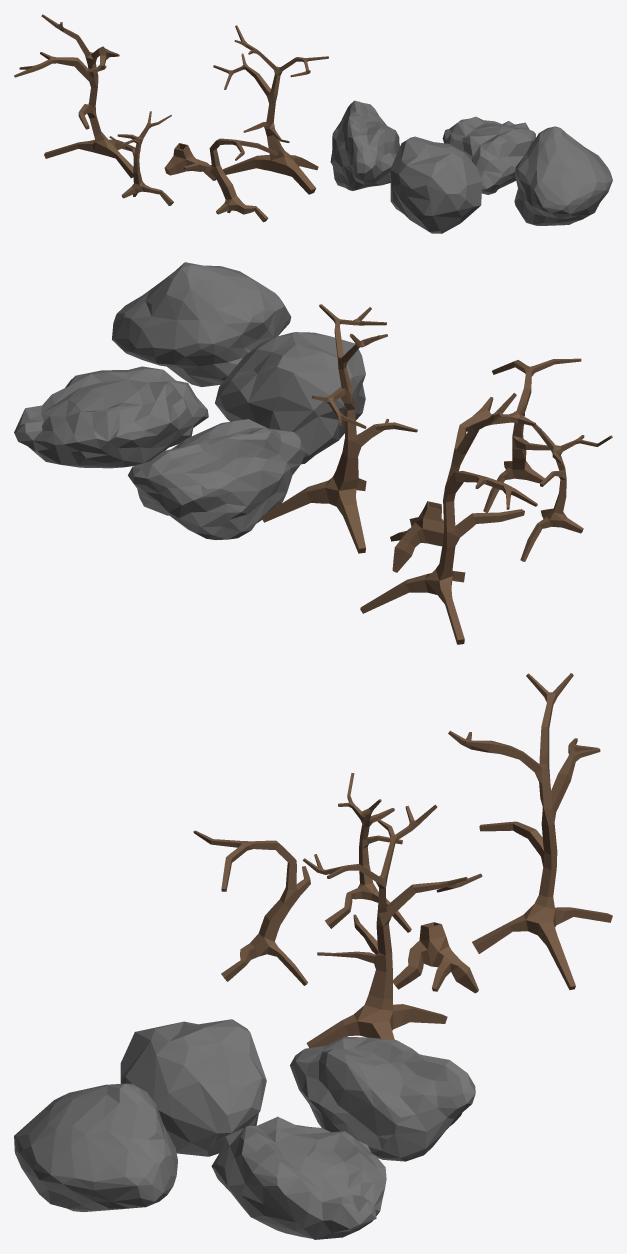
The model's file is trees_and_stones.fbx.
3 views of the same model, one above another, from view 1: azimuth 30°, elevation 25°; view 2: azimuth 150°, elevation 25°; view 3: azimuth 270°, elevation 25° (orthographic). The views are drawn at different scales.
Parts seen in each view (by area): view 1: Icosphere.001, Icosphere, Icosphere.003, Icosphere.002, tree1, tree5, tree2, tree4, tree3; view 2: Icosphere.001, Icosphere.002, Icosphere.003, Icosphere, tree5, tree1, tree2, tree4, tree3; view 3: Icosphere.001, Icosphere.003, Icosphere.002, Icosphere, tree5, tree1, tree2, tree3, tree4.
Boxes of the visible parts, bbox=[...] form: Icosphere.001: bbox=[514, 126, 612, 225]; Icosphere: bbox=[389, 136, 482, 233]; Icosphere.003: bbox=[330, 100, 400, 190]; Icosphere.002: bbox=[442, 116, 535, 194]; tree1: bbox=[213, 25, 328, 194]; tree5: bbox=[14, 14, 140, 178]; tree2: bbox=[183, 138, 278, 222]; tree4: bbox=[109, 111, 173, 205]; tree3: bbox=[164, 143, 216, 180]; Icosphere.001: bbox=[112, 262, 291, 386]; Icosphere.002: bbox=[14, 366, 208, 468]; Icosphere.003: bbox=[128, 419, 305, 539]; Icosphere: bbox=[215, 332, 365, 464]; tree5: bbox=[360, 393, 537, 644]; tree1: bbox=[261, 304, 417, 553]; tree2: bbox=[483, 358, 581, 512]; tree4: bbox=[514, 411, 612, 561]; tree3: bbox=[390, 501, 443, 572]; Icosphere.001: bbox=[14, 1083, 177, 1212]; Icosphere.003: bbox=[290, 1036, 475, 1161]; Icosphere.002: bbox=[211, 1116, 386, 1239]; Icosphere: bbox=[120, 1019, 266, 1156]; tree5: bbox=[448, 673, 612, 989]; tree1: bbox=[303, 804, 482, 1047]; tree2: bbox=[193, 830, 310, 985]; tree3: bbox=[393, 922, 478, 993]; tree4: bbox=[325, 773, 411, 932].
Bounding box in the file's own units: 1550 × 646 × 1212.
